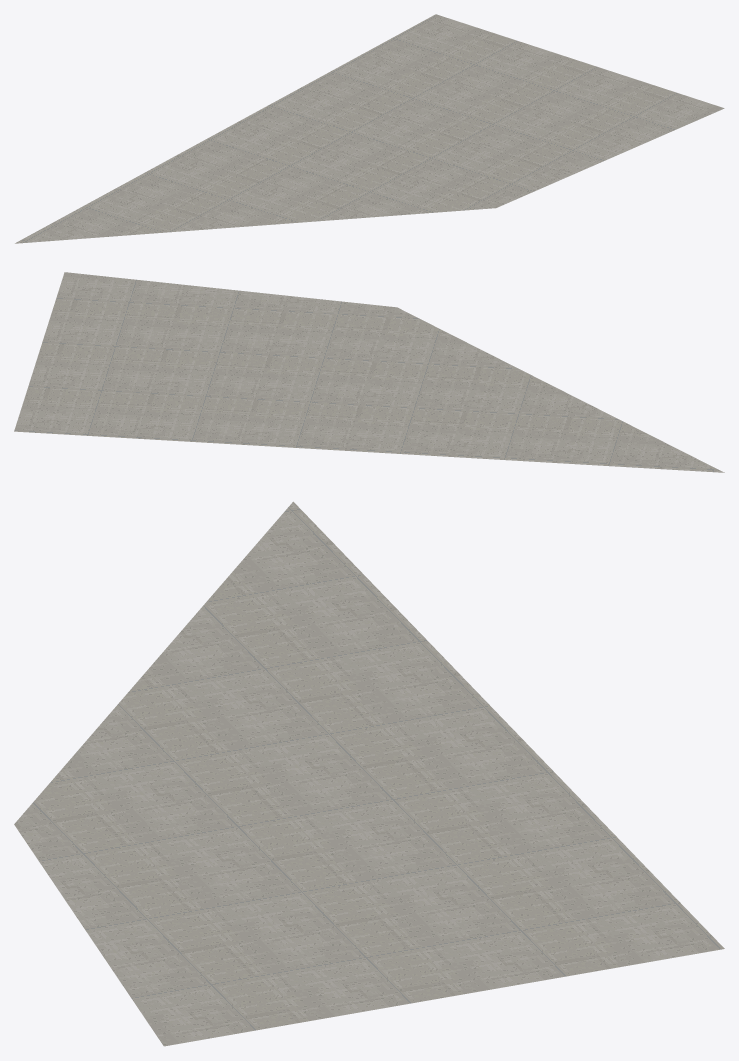
The model's file is kd_connection_world-inner_surface_16_4.glb.
3 renders of one model, top to bottom at view 1: azimuth 30°, elevation 25°; view 2: azimuth 150°, elevation 25°; view 3: azimuth 270°, elevation 25°, orthographic. The views are drawn at different scales.
Visible parts, largest first — view 1: kd_connection_world-inner_surface_16_4; view 2: kd_connection_world-inner_surface_16_4; view 3: kd_connection_world-inner_surface_16_4.
Part boxes in pixels (left/top/right/bottom): kd_connection_world-inner_surface_16_4: left=15, top=14, right=724, bottom=243; kd_connection_world-inner_surface_16_4: left=14, top=272, right=724, bottom=472; kd_connection_world-inner_surface_16_4: left=14, top=501, right=724, bottom=1046.
Size of the model in its own units: 18.59 by 0 by 10.25.
1 material, 1 textured.
